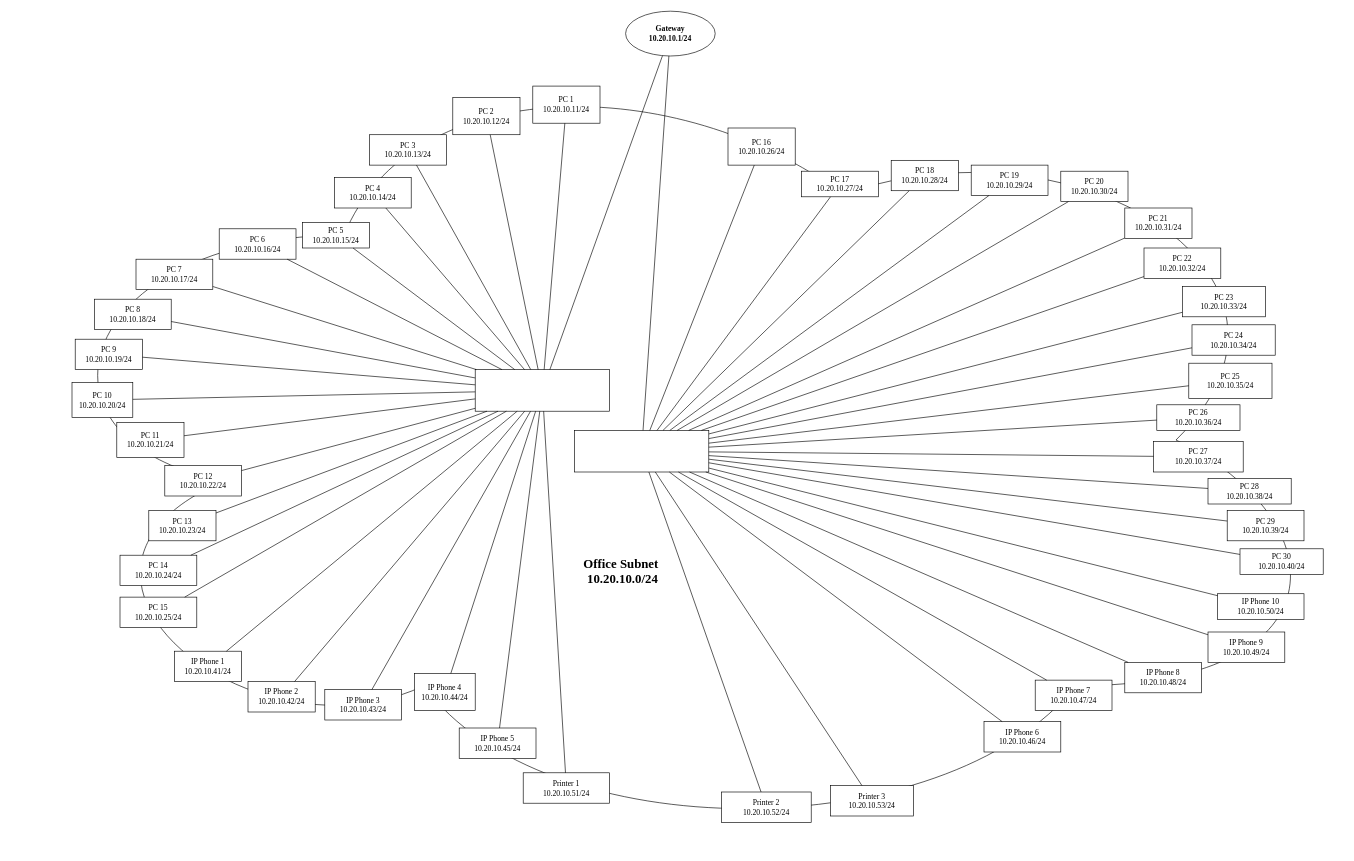
Image size: 1354x861. Some labels were removed from this diagram. The shapes that lost their labels are listed below. From the top down, each one's centre as x and y in pixels, then its label:
point 542,390: SW10-A Office Access Switch A
point 641,451: SW10-B Office Access Switch B
